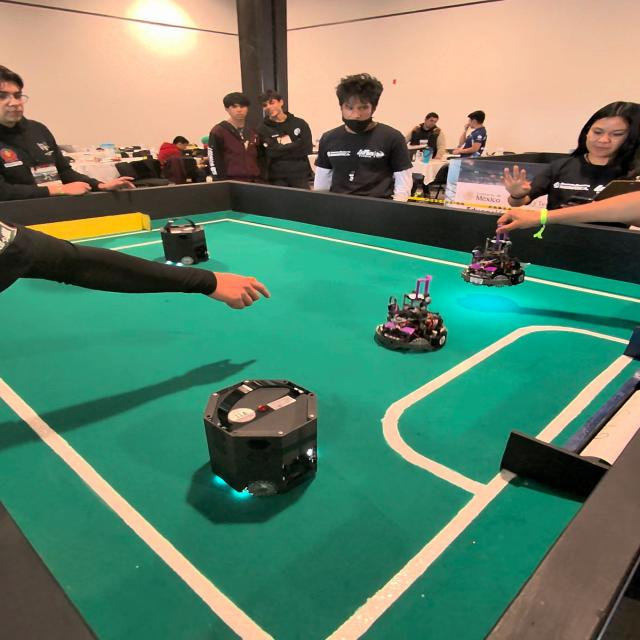Robot: (193, 387, 328, 529), (378, 280, 450, 355), (463, 231, 528, 290), (157, 214, 210, 276)
